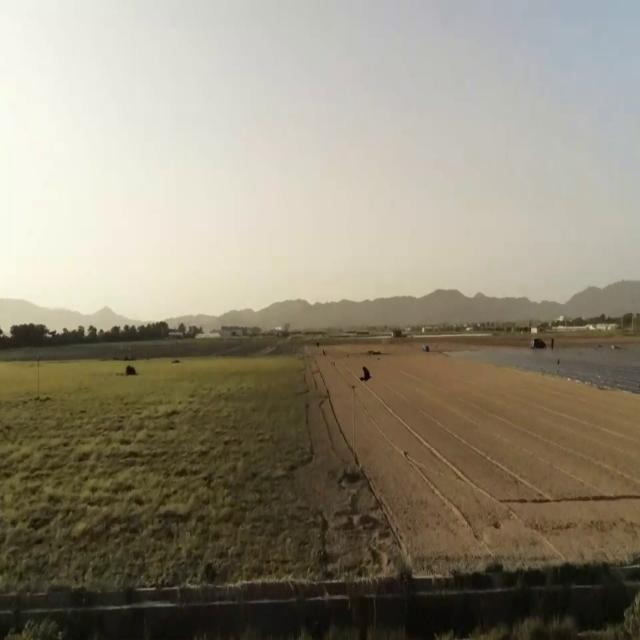bird: (360, 358, 372, 388)
